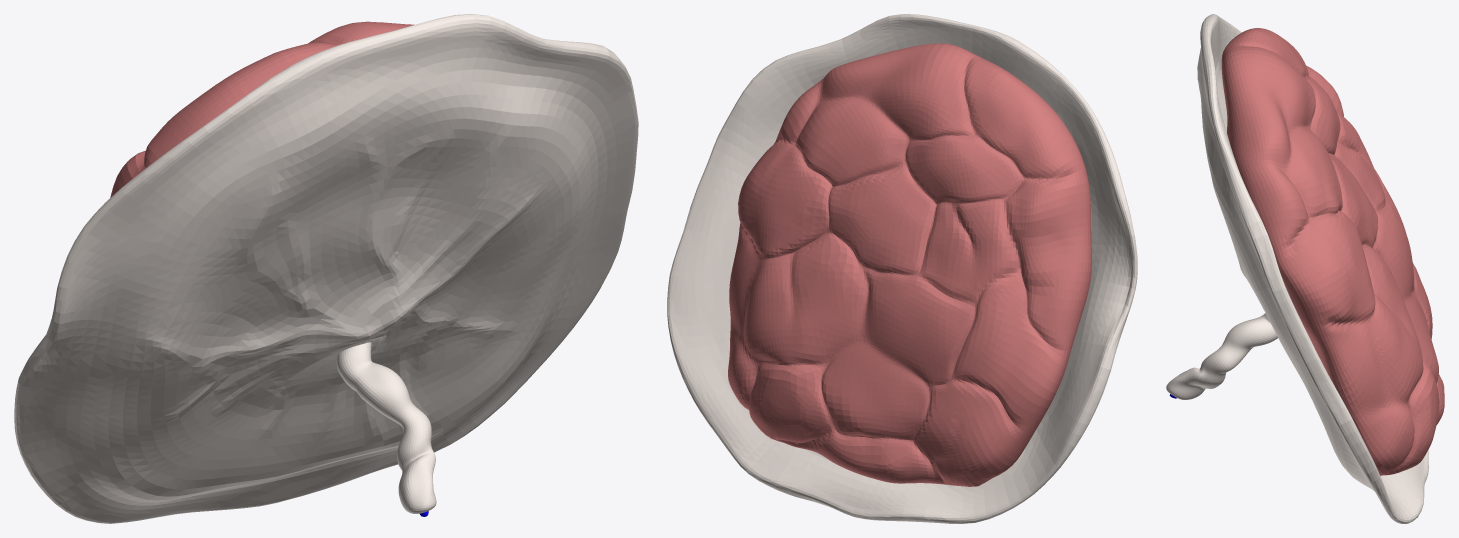
The model's file is VH_F_Placenta_0.8.glb.
The picture shows the model from 3 angles, left to right: view 1: azimuth 30°, elevation 25°; view 2: azimuth 150°, elevation 25°; view 3: azimuth 270°, elevation 25°; orthographic projection. The views are drawn at different scales.
Visible parts, largest first — view 1: VH_F_amnion, VH_F_basal_plate, VH_F_umbilical_cord; view 2: VH_F_basal_plate, VH_F_amnion; view 3: VH_F_basal_plate, VH_F_amnion, VH_F_chorionic_plate, VH_F_umbilical_cord.
Boxes of the visible parts, x1,y1,x2,y2 form: VH_F_amnion: [14, 14, 638, 523]; VH_F_basal_plate: [110, 21, 414, 197]; VH_F_umbilical_cord: [336, 342, 436, 513]; VH_F_basal_plate: [728, 43, 1090, 486]; VH_F_amnion: [667, 14, 1137, 523]; VH_F_basal_plate: [1224, 28, 1444, 471]; VH_F_amnion: [1197, 14, 1428, 523]; VH_F_chorionic_plate: [1221, 46, 1400, 475]; VH_F_umbilical_cord: [1166, 313, 1277, 399].
Size of the model in its own units: 0.2509 by 0.2305 by 0.1338.
